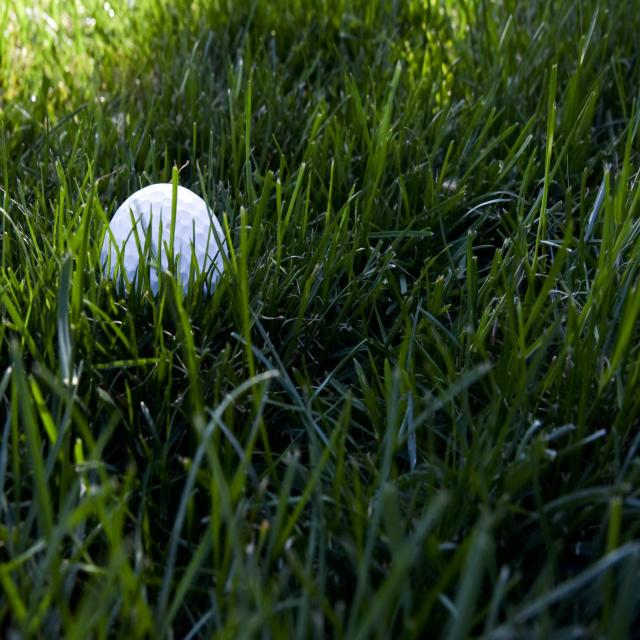golfball: (95, 181, 238, 303)
